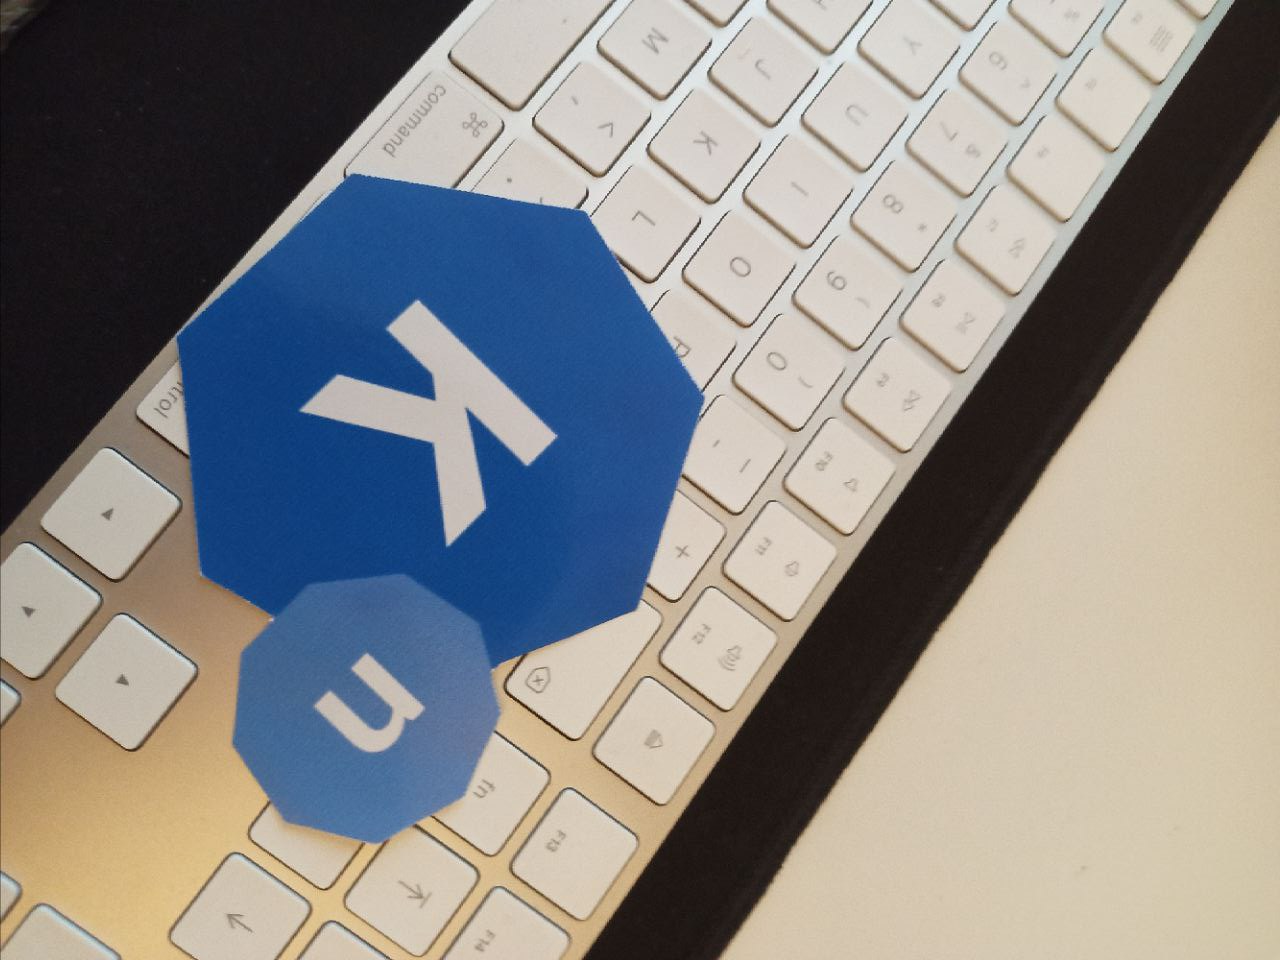knative: (175, 175, 703, 843)
